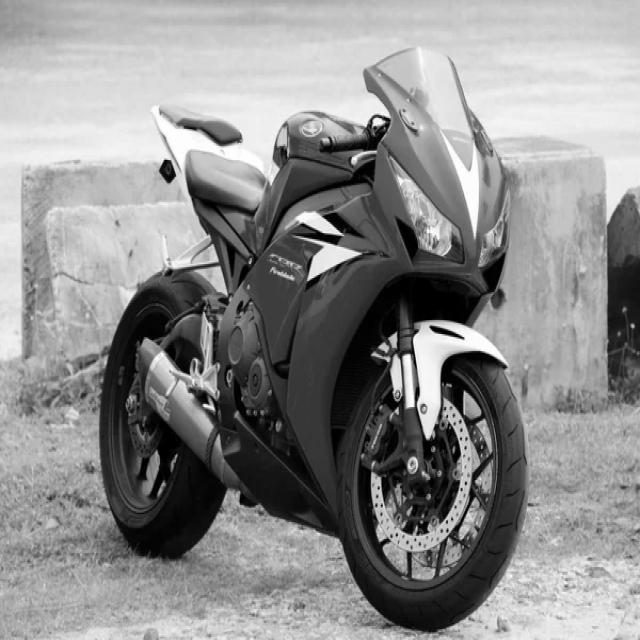Motorcycle: (99, 47, 530, 630)
